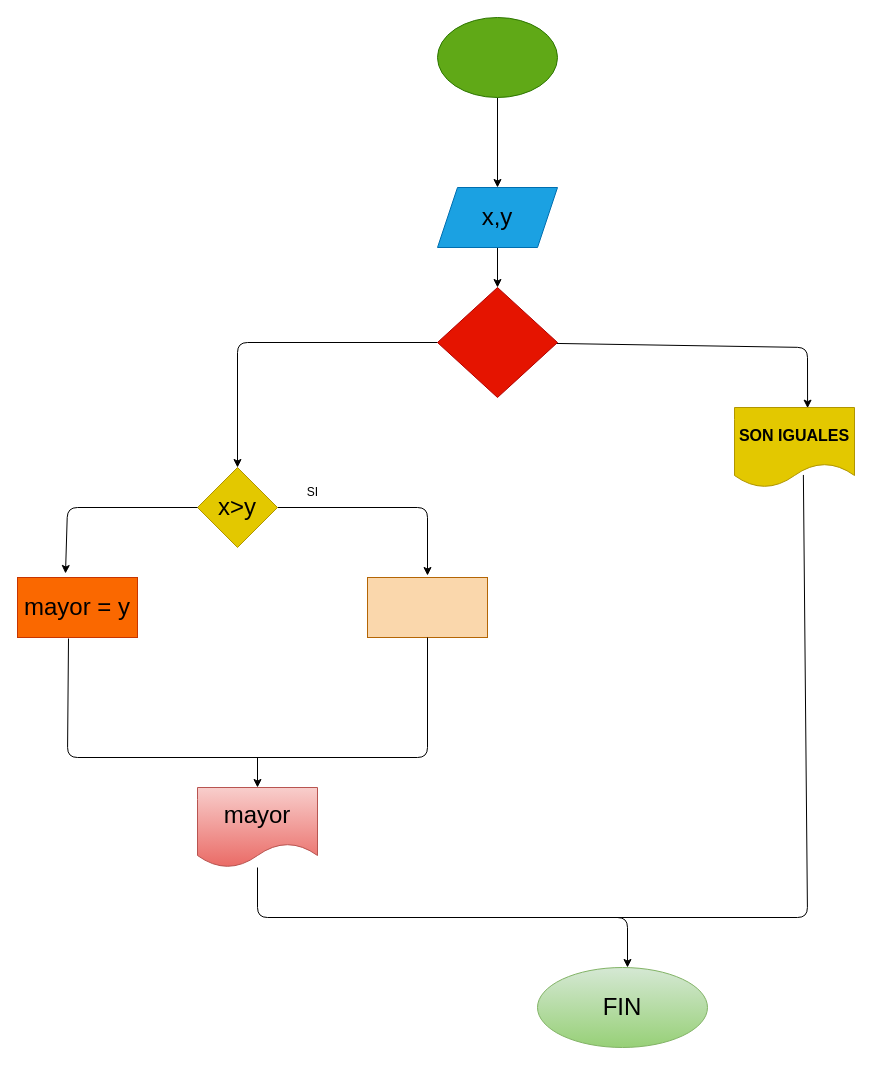
Image size: 872x1065. Some labels were removed from this diagram. Each missing label, with the centre of its shape:
"inicio" belongs at (497,57).
"mayor = x" belongs at (427,607).
"X==Y" belongs at (497,342).
